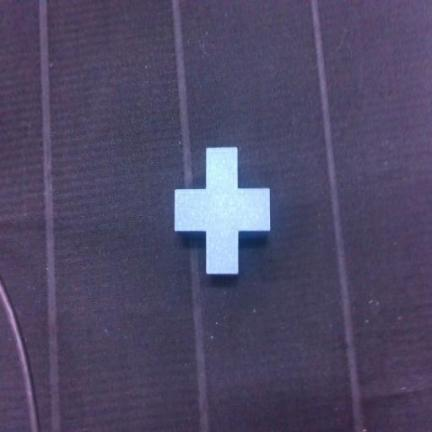cross: (175, 148, 269, 274)
